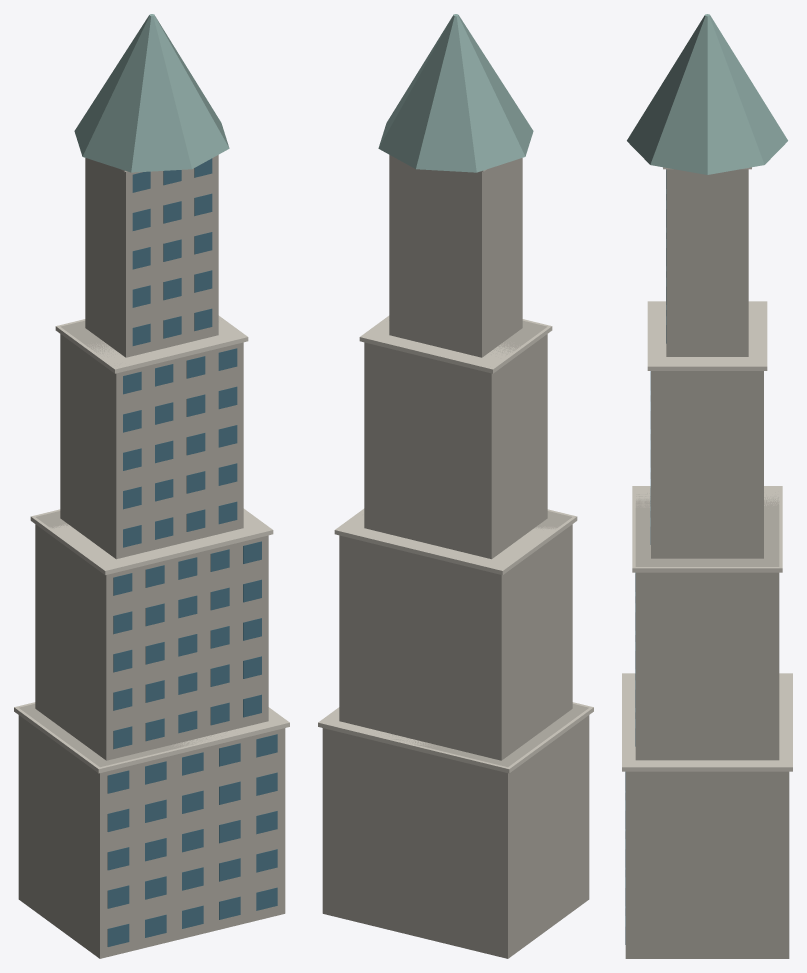
The picture shows the model from 3 angles, left to right: view 1: azimuth 30°, elevation 25°; view 2: azimuth 150°, elevation 25°; view 3: azimuth 270°, elevation 25°; orthographic projection.
Visible parts, largest first — view 1: worldgen; view 2: worldgen; view 3: worldgen.
Boxes of the visible parts, <box> form: worldgen: <box>14,14,289,958</box>; worldgen: <box>318,14,593,958</box>; worldgen: <box>622,14,792,958</box>.
Size of the model in its own units: 33 by 147 by 25.32.
